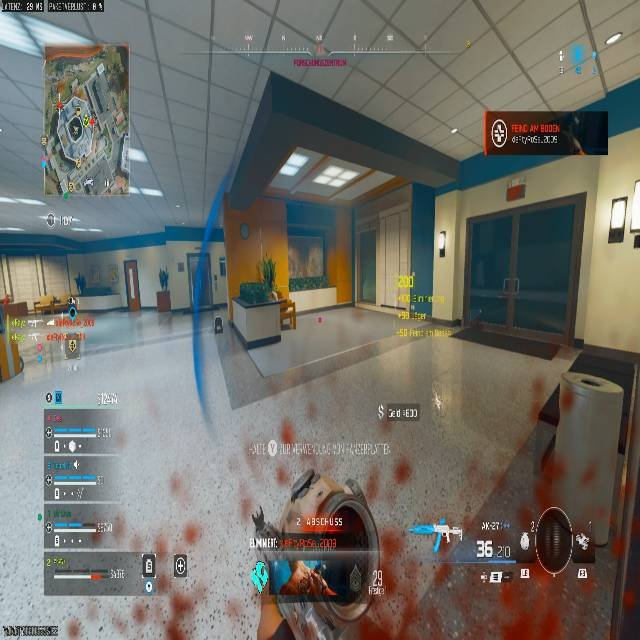player: (246, 426, 384, 639), (278, 294, 296, 332)
